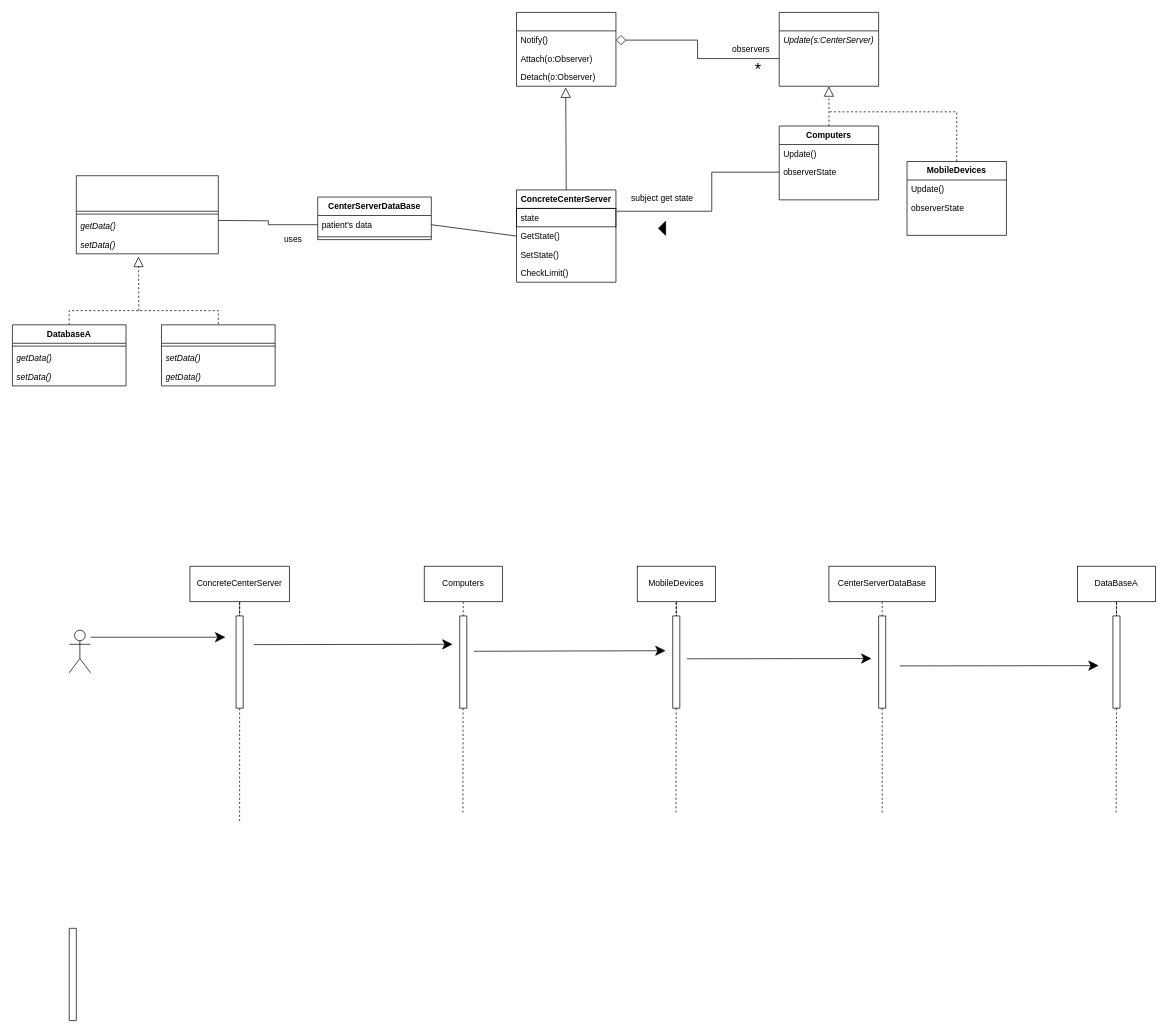
Some shapes in this 1168 by 1033 pixel diagram are drawn without their labels. The shapes that lost their labels are listed below. From the top down, each one's box as (x1, y1, x2, y2) in pixels, then its label:
(516, 12, 616, 86): CenterServer
(779, 12, 879, 86): Observer
(76, 175, 218, 254): DBMgr Impl
(161, 324, 275, 386): DatabasseB
(69, 629, 91, 673): Actor
